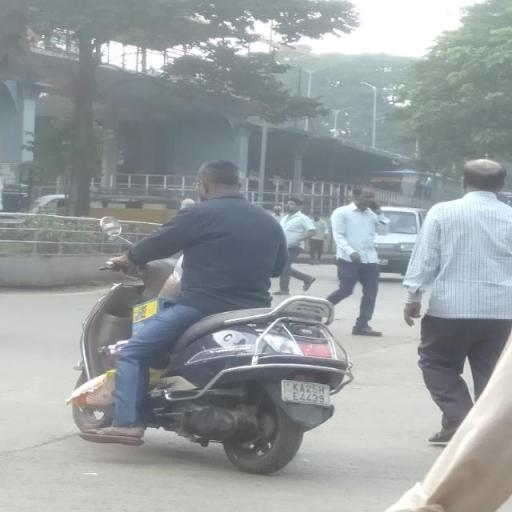bike: (62, 149, 382, 474)
numberplate: (277, 376, 340, 412)
withouthelmet: (197, 162, 243, 198)
